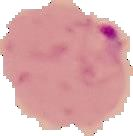parasitized: (12, 13, 128, 122), (63, 22, 126, 83)
